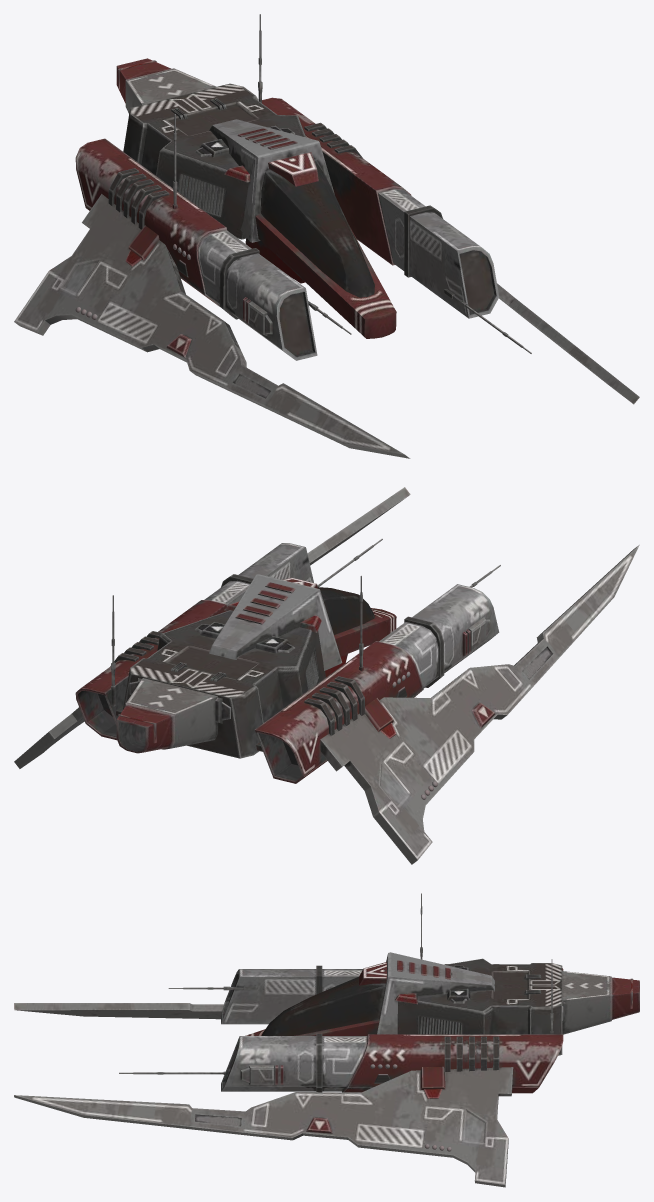
Rendered from speeder.glb.
3 views of the same model, one above another, from view 1: azimuth 30°, elevation 25°; view 2: azimuth 150°, elevation 25°; view 3: azimuth 270°, elevation 25° (orthographic). The views are drawn at different scales.
Visible parts, largest first — view 1: Spaceship2_Spaceship2; view 2: Spaceship2_Spaceship2; view 3: Spaceship2_Spaceship2.
Part boxes in pixels (bbox=[...]): Spaceship2_Spaceship2: bbox=[14, 14, 639, 458]; Spaceship2_Spaceship2: bbox=[14, 487, 639, 864]; Spaceship2_Spaceship2: bbox=[14, 893, 639, 1187].
Size of the model in its own units: 2.51 by 1.34 by 4.2.
Materials: 1 (1 with a texture image).
